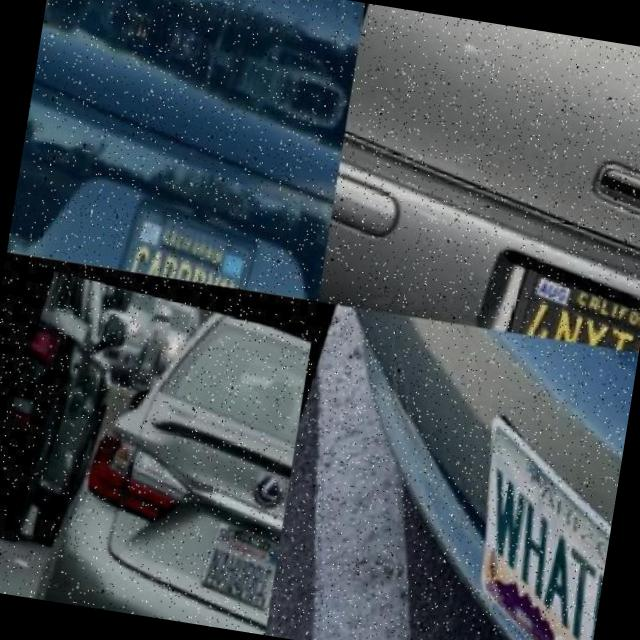LicensePlate: (481, 410, 613, 640), (118, 195, 267, 293), (507, 250, 640, 352), (202, 504, 285, 600)
